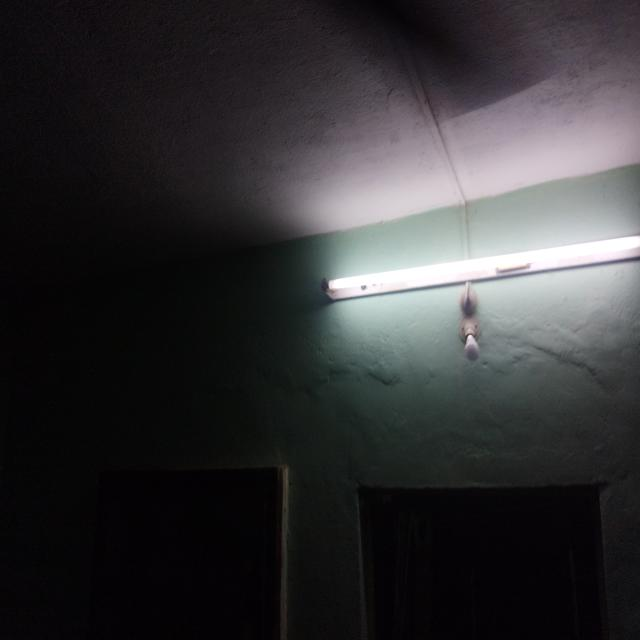tubelight_on: (321, 231, 639, 309)
